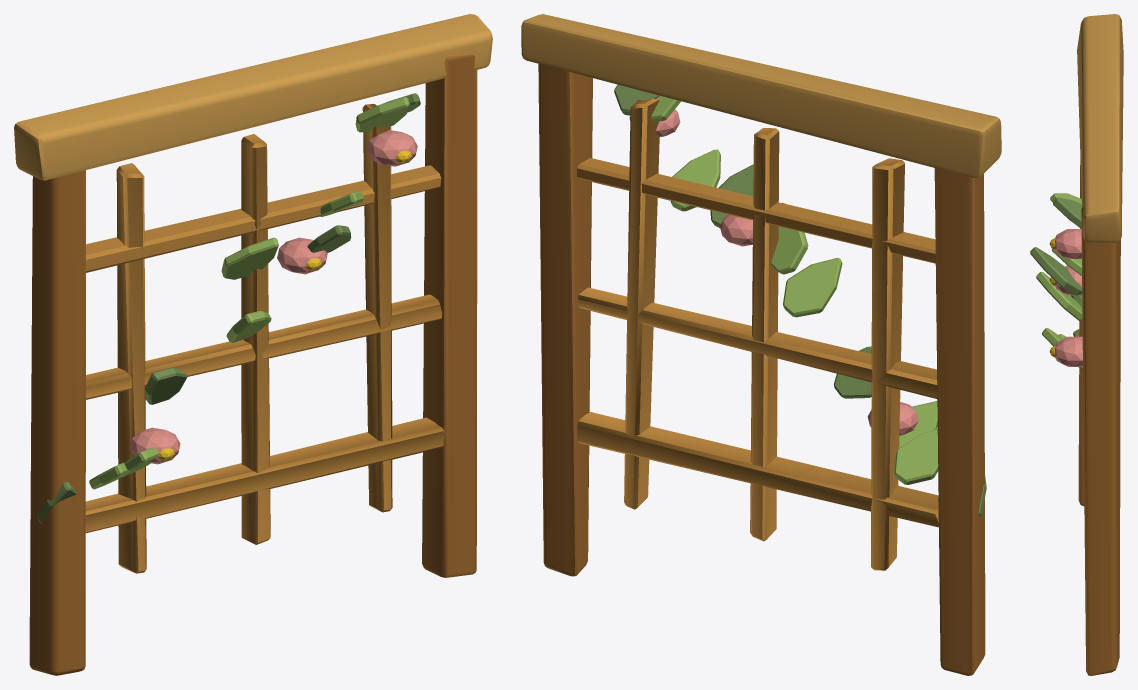
Rendered from prop_garden_trellis.glb.
3 renders of one model, left to right at view 1: azimuth 30°, elevation 25°; view 2: azimuth 150°, elevation 25°; view 3: azimuth 270°, elevation 25°, orthographic. The views are drawn at different scales.
Visible parts, largest first — view 1: trellis_top, trellis_post_l, trellis_post_r, trellis_h_0.34, trellis_v_-0.3, trellis_v_0.0, trellis_v_0.3, trellis_h_0.94, trellis_h_0.64, trellis_leaf_5, trellis_bloom_2, trellis_bloom_1 (+5 smaller); view 2: trellis_top, trellis_post_r, trellis_post_l, trellis_v_-0.3, trellis_h_0.34, trellis_v_0.3, trellis_v_0.0, trellis_h_0.64, trellis_h_0.94, trellis_leaf_4, trellis_leaf_1, trellis_leaf_7 (+5 smaller); view 3: trellis_post_r, trellis_top, trellis_leaf_6, trellis_post_l, trellis_bloom_0, trellis_bloom_2, trellis_leaf_4, trellis_leaf_9, trellis_leaf_7, trellis_bloom_1, trellis_leaf_2, trellis_leaf_8.
Part boxes in pixels (x1,y1,x2,y2): trellis_top: (14,14,492,180); trellis_post_l: (29,170,85,675); trellis_post_r: (422,55,477,577); trellis_h_0.34: (85,417,444,533); trellis_v_-0.3: (116,163,146,573); trellis_v_0.0: (241,134,270,544); trellis_v_0.3: (362,104,392,512); trellis_h_0.94: (86,165,441,272); trellis_h_0.64: (86,294,442,399); trellis_leaf_5: (221,237,278,279); trellis_bloom_2: (367,130,417,166); trellis_bloom_1: (277,237,327,274); trellis_top: (521,14,1001,178); trellis_post_r: (538,63,592,576); trellis_post_l: (934,168,985,675); trellis_v_-0.3: (871,158,904,570); trellis_h_0.34: (577,411,938,527); trellis_v_0.3: (624,97,659,509); trellis_v_0.0: (750,128,779,541); trellis_h_0.64: (578,287,937,398); trellis_h_0.94: (577,158,935,263); trellis_leaf_4: (783,258,842,317); trellis_leaf_1: (894,428,938,484); trellis_leaf_7: (670,149,720,211); trellis_post_r: (1081,206,1120,675); trellis_top: (1077,14,1123,242); trellis_leaf_6: (1030,247,1082,295); trellis_post_l: (1078,160,1084,506); trellis_bloom_0: (1055,336,1082,366); trellis_bloom_2: (1055,229,1081,258); trellis_leaf_4: (1036,272,1082,320); trellis_leaf_9: (1053,197,1081,228); trellis_leaf_7: (1052,248,1081,275); trellis_bloom_1: (1055,265,1082,295); trellis_leaf_2: (1042,328,1082,369); trellis_leaf_8: (1050,193,1081,228).
Bounding box in the file's own units: 1.13 × 1.29 × 0.2277.
